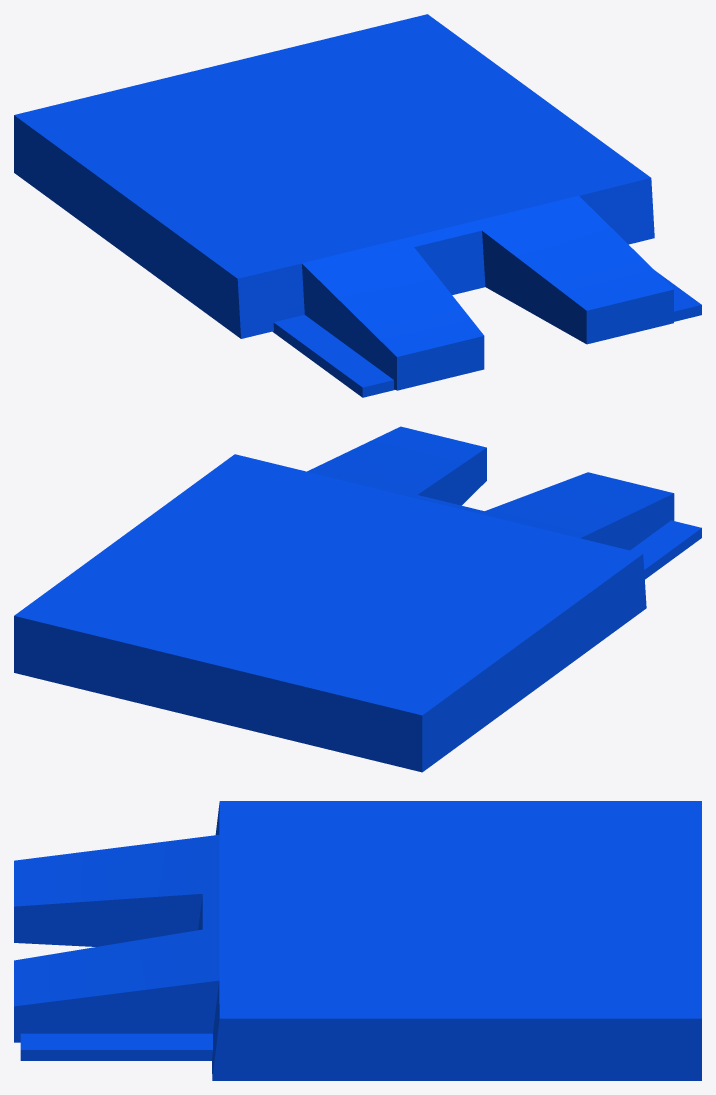
Rendered from Vault_fall.FBX.
3 renders of one model, top to bottom at view 1: azimuth 30°, elevation 25°; view 2: azimuth 150°, elevation 25°; view 3: azimuth 270°, elevation 25°, orthographic. The views are drawn at different scales.
Visible parts, largest first — view 1: Vault_fall; view 2: Vault_fall; view 3: Vault_fall.
Part boxes in pixels (bbox=[...]): Vault_fall: bbox=[14, 14, 701, 397]; Vault_fall: bbox=[14, 426, 701, 772]; Vault_fall: bbox=[14, 801, 701, 1080].
Size of the model in its own units: 59.95 by 8.24 by 80.09.
